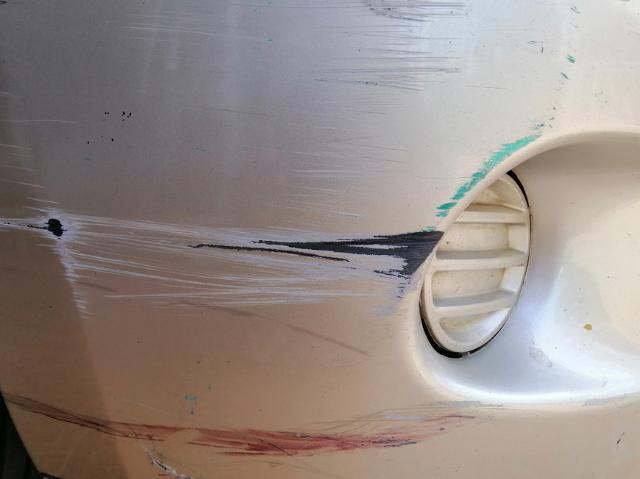Bumper: (0, 0, 635, 479)
